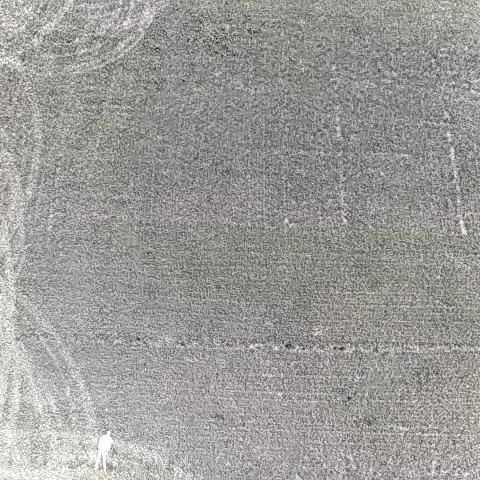person: (92, 428, 116, 473)
